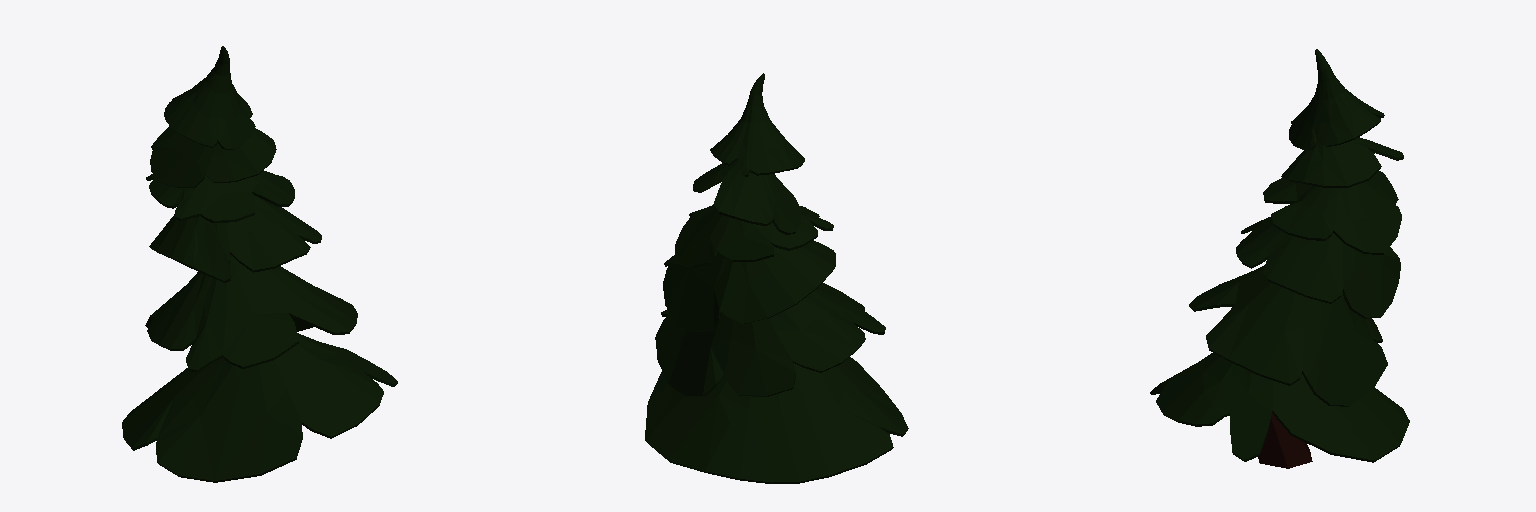
File: PineTree_3.obj
The picture shows the model from 3 angles: view 1: azimuth 30°, elevation 25°; view 2: azimuth 150°, elevation 25°; view 3: azimuth 270°, elevation 25°; orthographic projection.
Parts seen in each view (by area): view 1: PineTree_3_Cylinder.025; view 2: PineTree_3_Cylinder.025; view 3: PineTree_3_Cylinder.025.
Part boxes in pixels (x1,y1,x2,y2): PineTree_3_Cylinder.025: (122,46,397,482); PineTree_3_Cylinder.025: (645,73,908,483); PineTree_3_Cylinder.025: (1150,49,1409,468).
Bounding box in the file's own units: 2.16 × 3.3 × 1.95.